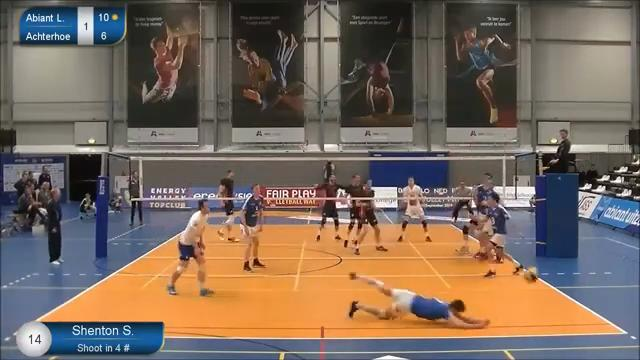Dig: (344, 264, 507, 334)
Player: (167, 199, 212, 295), (458, 173, 494, 258), (353, 185, 387, 254), (397, 177, 431, 241), (241, 184, 264, 271), (484, 192, 509, 262), (316, 200, 341, 240), (343, 200, 362, 247), (222, 200, 237, 241)
ball: (521, 265, 541, 286)
